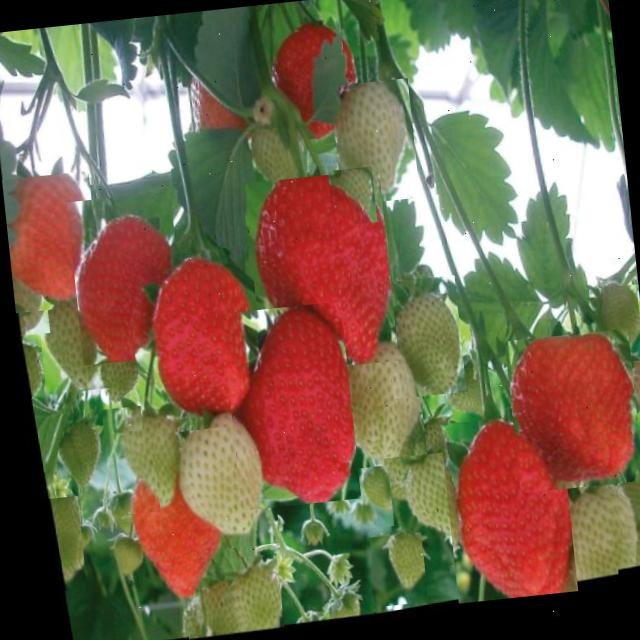ripe: (242, 169, 399, 374), (221, 301, 361, 510), (124, 245, 268, 435), (440, 412, 578, 604), (504, 328, 640, 493), (66, 191, 186, 365), (2, 171, 102, 313)
unripe: (150, 400, 280, 554), (320, 326, 428, 481), (330, 78, 420, 205), (384, 450, 476, 570), (538, 481, 638, 589), (382, 274, 466, 398), (101, 401, 190, 516), (181, 553, 285, 640), (35, 284, 110, 394), (237, 98, 310, 208), (574, 284, 640, 366), (368, 532, 428, 606), (42, 496, 88, 592), (4, 250, 50, 336), (609, 330, 640, 455), (346, 465, 394, 530), (328, 166, 378, 226), (16, 332, 44, 398), (616, 474, 640, 549), (615, 538, 640, 577)
